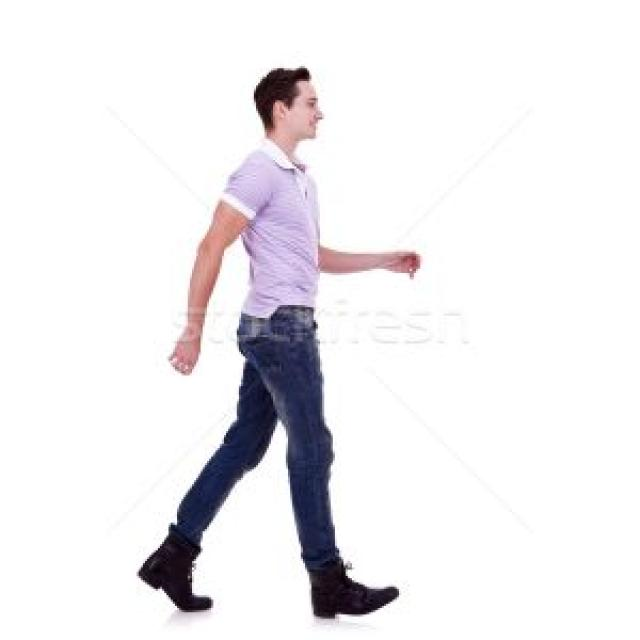nonfall: (133, 64, 401, 622)
